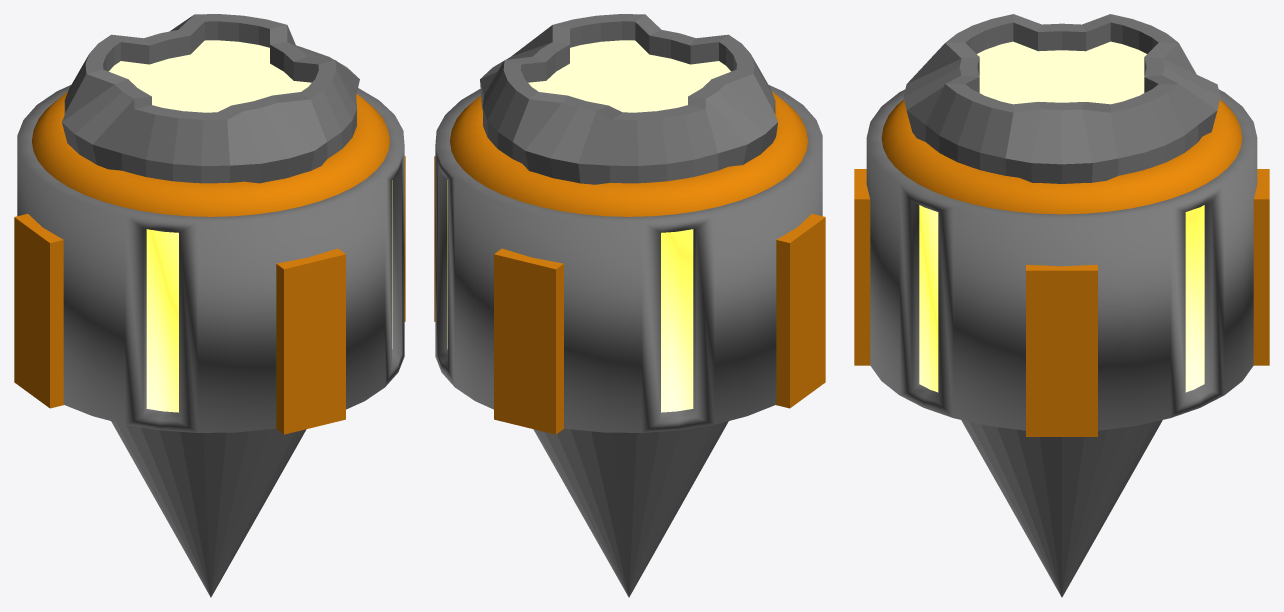
3 views of the same model, side by side, from view 1: azimuth 30°, elevation 25°; view 2: azimuth 150°, elevation 25°; view 3: azimuth 270°, elevation 25° (orthographic).
Parts seen in each view (by area): view 1: Cylinder, Cylinder.001, Cone, Torus, Cube.002, Cube.001; view 2: Cylinder, Cylinder.001, Cone, Torus, Cube.003, Cube.001; view 3: Cylinder, Cylinder.001, Cone, Torus, Cube, Cube.002, Cube.003.
Part boxes in pixels (x1,y1,x2,y2): Cylinder: (17, 85, 404, 432); Cylinder.001: (62, 14, 359, 183); Cone: (111, 421, 306, 597); Torus: (32, 91, 389, 216); Cube.002: (276, 248, 345, 434); Cube.001: (14, 213, 63, 408); Cylinder: (435, 85, 822, 432); Cylinder.001: (480, 14, 777, 184); Cone: (533, 421, 728, 597); Torus: (450, 91, 807, 216); Cube.003: (494, 248, 564, 434); Cube.001: (776, 213, 825, 408); Cylinder: (866, 89, 1257, 430); Cylinder.001: (903, 14, 1220, 183); Cone: (961, 420, 1162, 597); Torus: (881, 99, 1242, 214); Cube: (1026, 265, 1097, 436); Cube.002: (854, 169, 870, 365); Cube.003: (1253, 169, 1269, 365).
Size of the model in its own units: 2.8 by 4 by 2.82.
